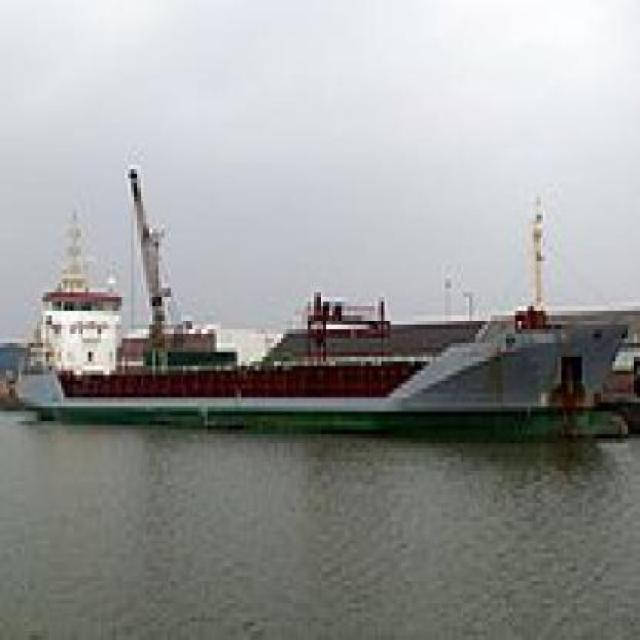container: (10, 143, 638, 467)
